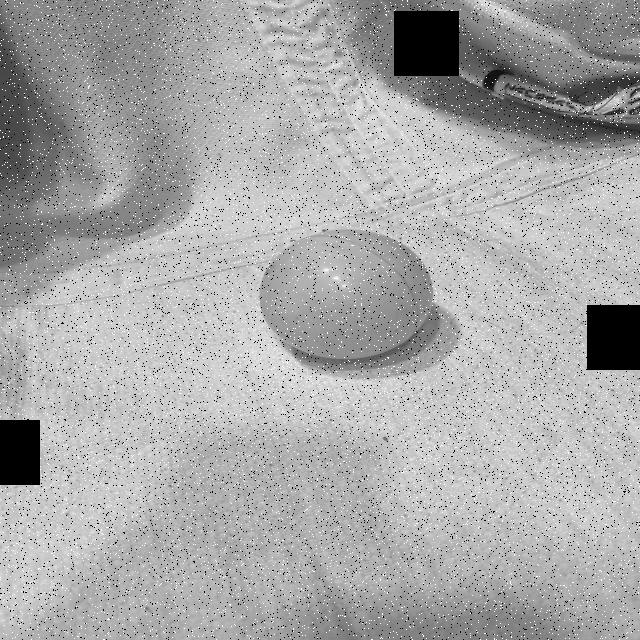ball: (255, 227, 437, 364)
